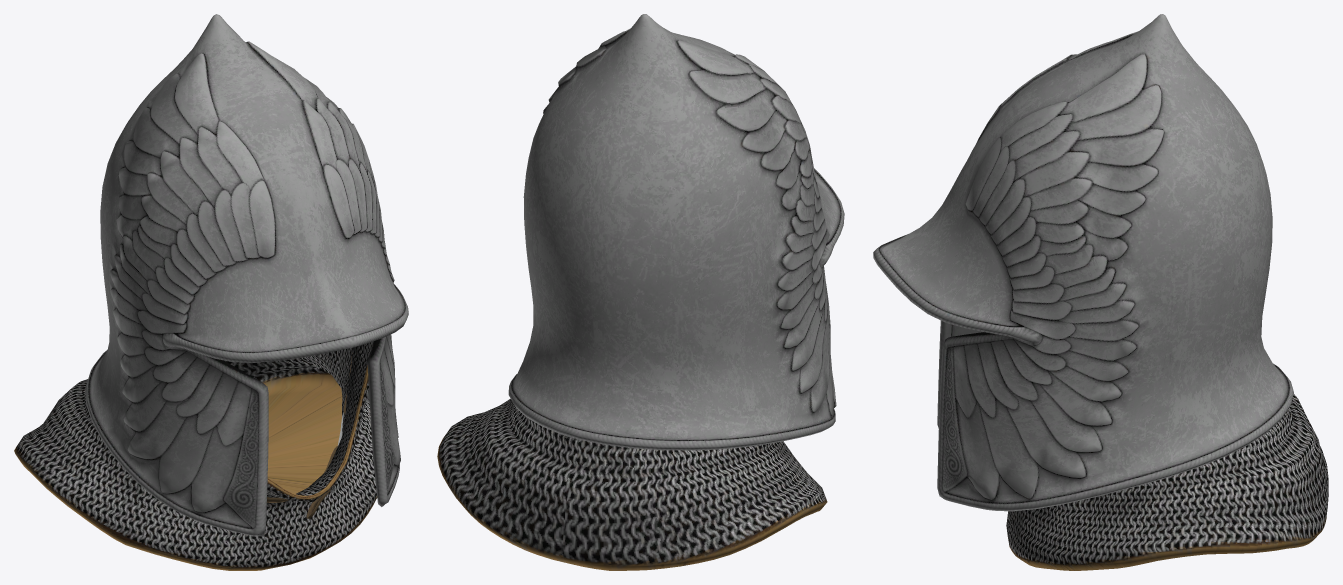
The model's file is pelargirmarine_helmet_4_coif.fbx.
3 renders of one model, left to right at view 1: azimuth 30°, elevation 25°; view 2: azimuth 150°, elevation 25°; view 3: azimuth 270°, elevation 25°, orthographic. The views are drawn at different scales.
Visible parts, largest first — view 1: pelargirmarine_helmet_4_coif.2, pelargirmarine_helmet_4_coif.0, pelargirmarine_helmet_4_coif.1; view 2: pelargirmarine_helmet_4_coif.2, pelargirmarine_helmet_4_coif.0; view 3: pelargirmarine_helmet_4_coif.2, pelargirmarine_helmet_4_coif.0.
Part boxes in pixels (left/top/right/bottom): pelargirmarine_helmet_4_coif.2: left=85, top=14, right=408, bottom=536; pelargirmarine_helmet_4_coif.0: left=14, top=342, right=377, bottom=570; pelargirmarine_helmet_4_coif.1: left=266, top=353, right=352, bottom=518; pelargirmarine_helmet_4_coif.2: left=508, top=14, right=844, bottom=450; pelargirmarine_helmet_4_coif.0: left=437, top=398, right=827, bottom=570; pelargirmarine_helmet_4_coif.2: left=873, top=14, right=1293, bottom=511; pelargirmarine_helmet_4_coif.0: left=1006, top=394, right=1328, bottom=570.
Size of the model in its own units: 0.2963 by 0.3279 by 0.4175.
Materials: 3 (3 with a texture image).
